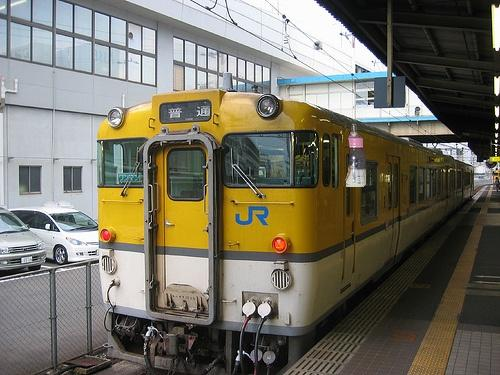tampered: (346, 125, 366, 187)
